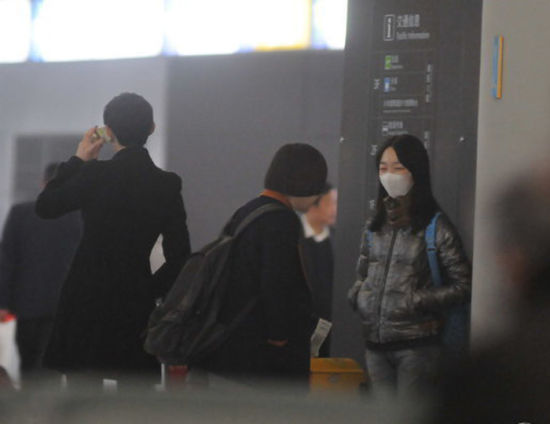face: (314, 191, 338, 226)
face_mask: (379, 146, 414, 199)
